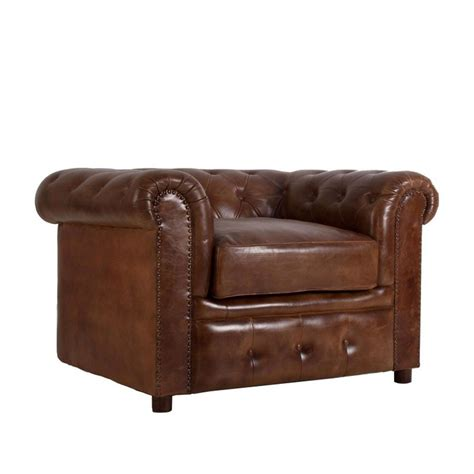cuero: (35, 167, 440, 398)
